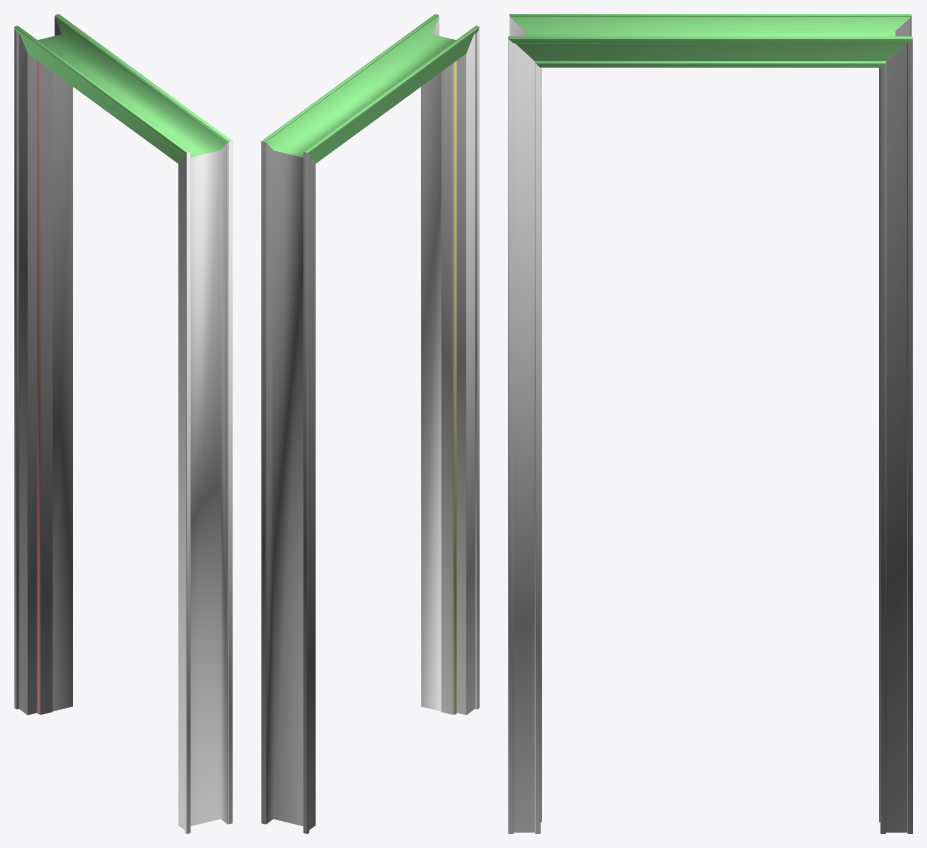
Rendered from doorMesh_Rectangle0.fbx.
3 renders of one model, left to right at view 1: azimuth 30°, elevation 25°; view 2: azimuth 150°, elevation 25°; view 3: azimuth 270°, elevation 25°, orthographic. The views are drawn at different scales.
Parts seen in each view (by area): view 1: doorMesh_Rectangle0; view 2: doorMesh_Rectangle0; view 3: doorMesh_Rectangle0.
Boxes of the visible parts, x1,y1,x2,y2 form: doorMesh_Rectangle0: (14,14,232,833); doorMesh_Rectangle0: (261,14,479,833); doorMesh_Rectangle0: (508,14,912,833).
Size of the model in its own units: 20.84 by 297 by 137.
